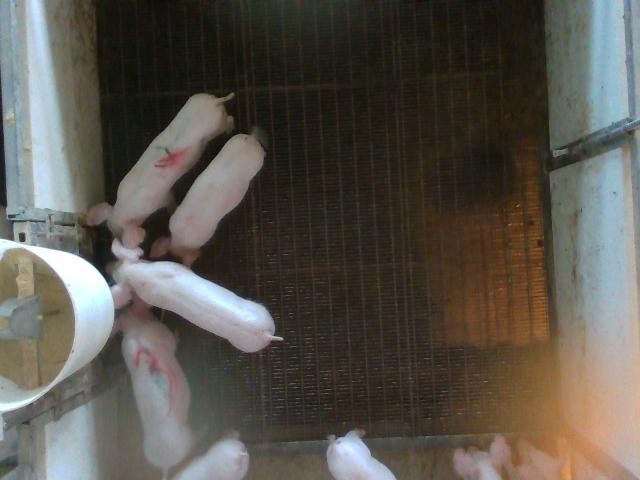pig-3: (115, 296, 194, 478)
pig-4: (88, 95, 234, 248)
